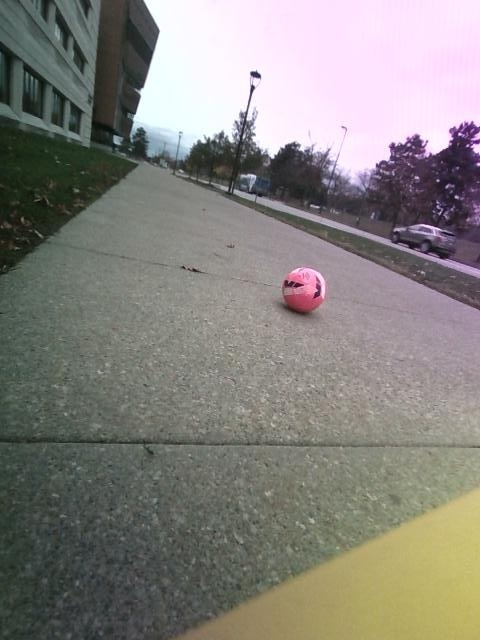ball: (282, 267, 326, 312)
